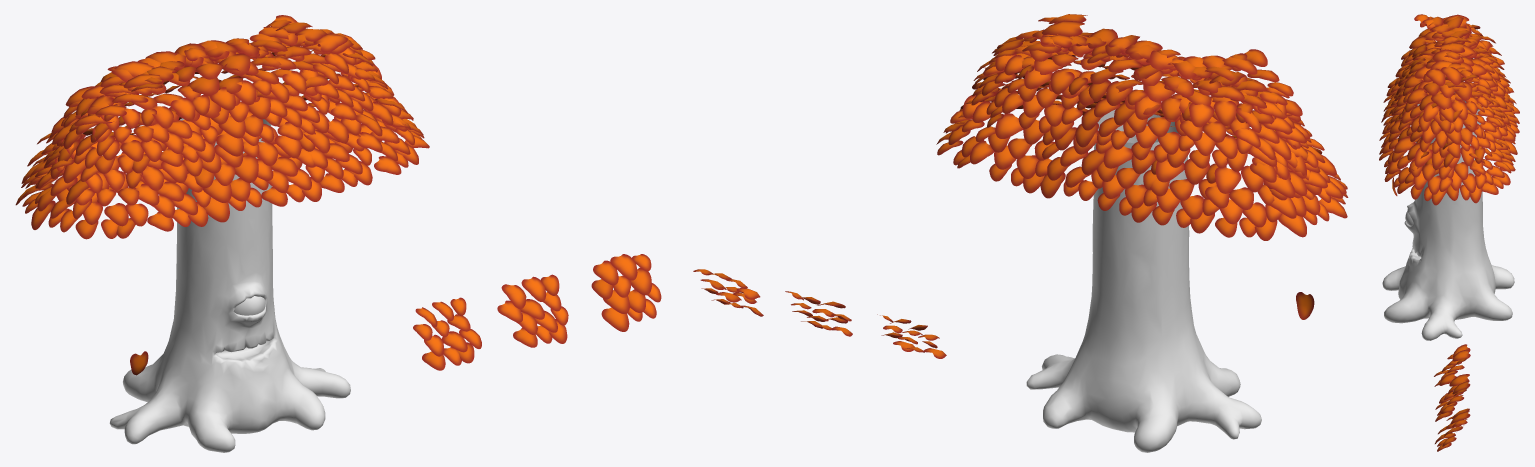
File: GummaTree.fbx
The picture shows the model from 3 angles, left to right: view 1: azimuth 30°, elevation 25°; view 2: azimuth 150°, elevation 25°; view 3: azimuth 270°, elevation 25°; orthographic projection. The views are drawn at different scales.
Visible parts, largest first — view 1: Trunk, LeafGroup1, LeafGroup2.001, LeafGroup1.001, LeafGroup2.002, LeafGroup2, LeafGroup0.001, LeafGroup1.003, LeafGroup2.006, LeafGroup2.003, LeafGroup0, LeafGroup0.002 (+19 smaller); view 2: Trunk, LeafGroup2.018, LeafGroup2.021, LeafGroup2.017, LeafGroup2.015, LeafGroup2.016, LeafGroup2.019, LeafGroup1.007, LeafGroup2.020, LeafGroup1.009, LeafGroup2.026, LeafGroup1.006 (+17 smaller); view 3: Trunk, LeafGroup2.005, LeafGroup1.010, LeafGroup2.014, LeafGroup1.012, LeafGroup2.004, LeafGroup2.010, LeafGroup0.004, LeafGroup2.009, LeafGroup0.005, LeafGroup1.011, LeafGroup2 (+25 smaller).
Part boxes in pixels (<box>): Trunk: <box>109,118,350,452</box>; LeafGroup1: <box>591,254,661,331</box>; LeafGroup2.001: <box>134,157,210,231</box>; LeafGroup1.001: <box>194,141,268,222</box>; LeafGroup2.002: <box>257,132,324,206</box>; LeafGroup2: <box>497,274,568,347</box>; LeafGroup0.001: <box>75,169,148,239</box>; LeafGroup1.003: <box>210,79,280,156</box>; LeafGroup2.006: <box>147,95,217,166</box>; LeafGroup2.003: <box>303,115,372,192</box>; LeafGroup0: <box>413,297,481,370</box>; LeafGroup0.002: <box>92,108,162,173</box>; Trunk: <box>1026,109,1261,452</box>; LeafGroup2.018: <box>1205,165,1282,240</box>; LeafGroup2.021: <box>1180,101,1253,171</box>; LeafGroup2.017: <box>1150,159,1226,233</box>; LeafGroup2.015: <box>988,113,1055,193</box>; LeafGroup2.016: <box>1096,146,1168,222</box>; LeafGroup2.019: <box>1017,65,1087,139</box>; LeafGroup1.007: <box>1040,127,1112,200</box>; LeafGroup2.020: <box>1126,95,1194,167</box>; LeafGroup1.009: <box>1075,80,1147,149</box>; LeafGroup2.026: <box>1205,49,1302,123</box>; LeafGroup1.006: <box>1248,136,1314,218</box>; Trunk: <box>1382,92,1514,340</box>; LeafGroup2.005: <box>1410,147,1454,205</box>; LeafGroup1.010: <box>1438,100,1482,157</box>; LeafGroup2.014: <box>1446,145,1486,203</box>; LeafGroup1.012: <box>1423,67,1478,124</box>; LeafGroup2.004: <box>1384,136,1429,193</box>; LeafGroup2.010: <box>1418,102,1462,157</box>; LeafGroup0.004: <box>1469,140,1511,194</box>; LeafGroup2.009: <box>1398,88,1437,141</box>; LeafGroup0.005: <box>1464,96,1502,148</box>; LeafGroup1.011: <box>1439,36,1496,87</box>; LeafGroup2: <box>1435,374,1470,421</box>.
Size of the model in its own units: 14.06 by 8.02 by 3.9.
Materials: 2 (1 with a texture image).
